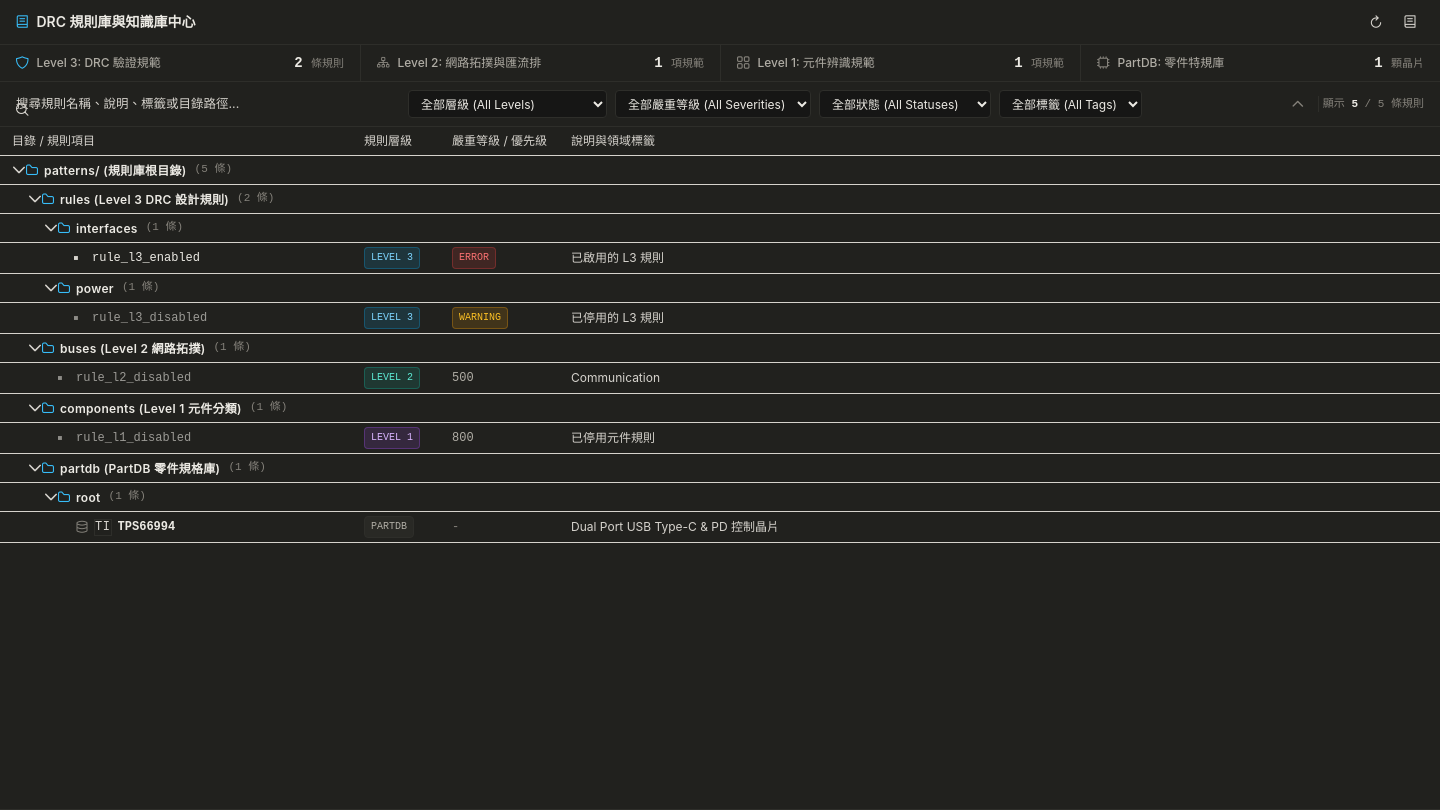
Test: RuleManagementView.vue › 支援呈現啟用與停用狀態，且支援在目錄樹工具列進行狀態篩選
Note: 切換為「僅顯示已啟用」
Step 1. Select "僅顯示已啟用 (Enabled)" in the dropdown with class "filter-status-select" → (905, 104), box [819, 90, 991, 118]
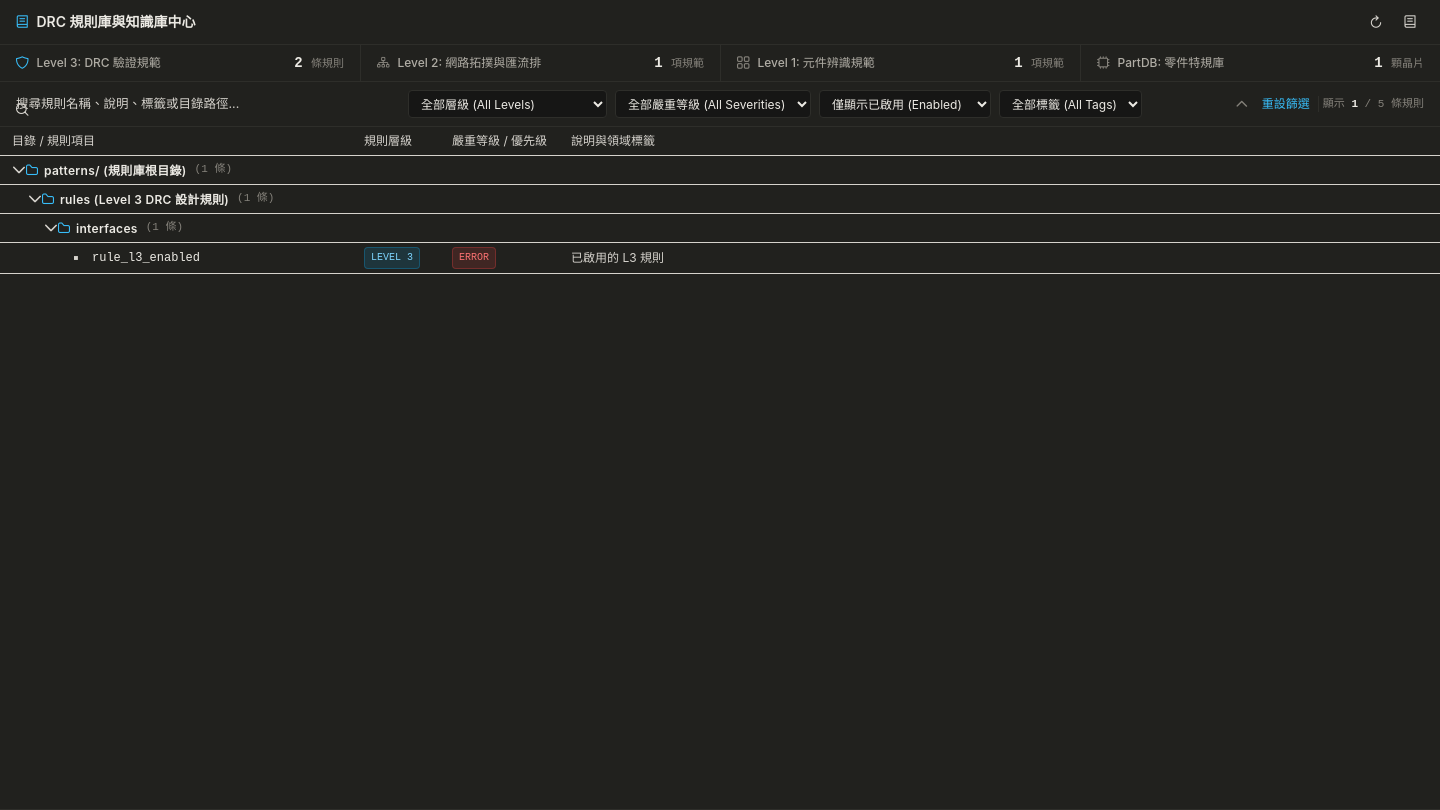
expect the text "rule_l3_enabled" is shown: met, box [92, 250, 200, 266]
expect the text "rule_l3_disabled" is gone: met
Note: 切換為「僅顯示已停用」
Step 2. Select "僅顯示已停用 (Disabled)" in the dropdown with class "filter-status-select" → (905, 104), box [819, 90, 991, 118]
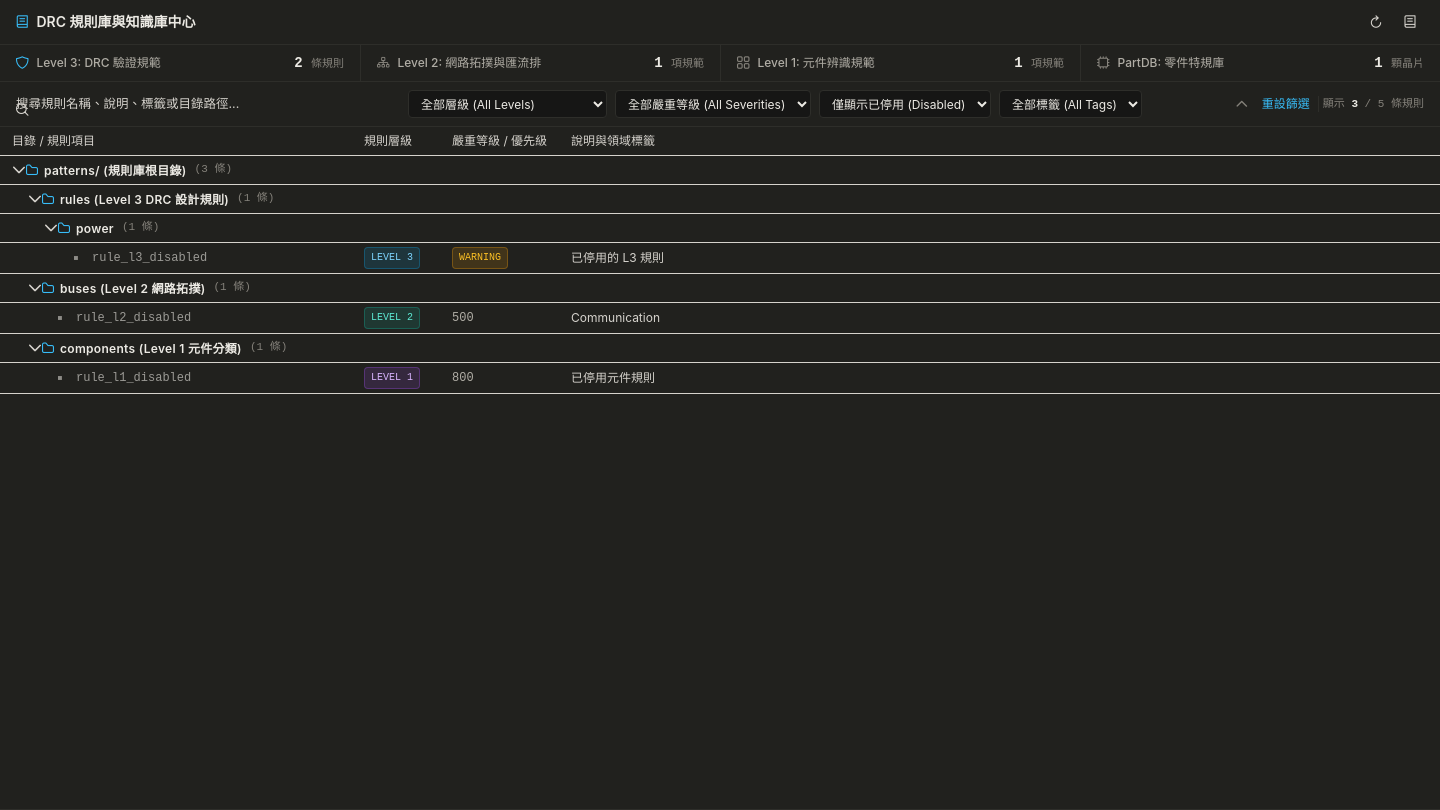
expect the text "rule_l3_enabled" is gone: met
expect the text "rule_l3_disabled" is shown: met, box [92, 250, 207, 266]
expect the text "rule_l2_disabled" is shown: met, box [76, 310, 191, 326]
